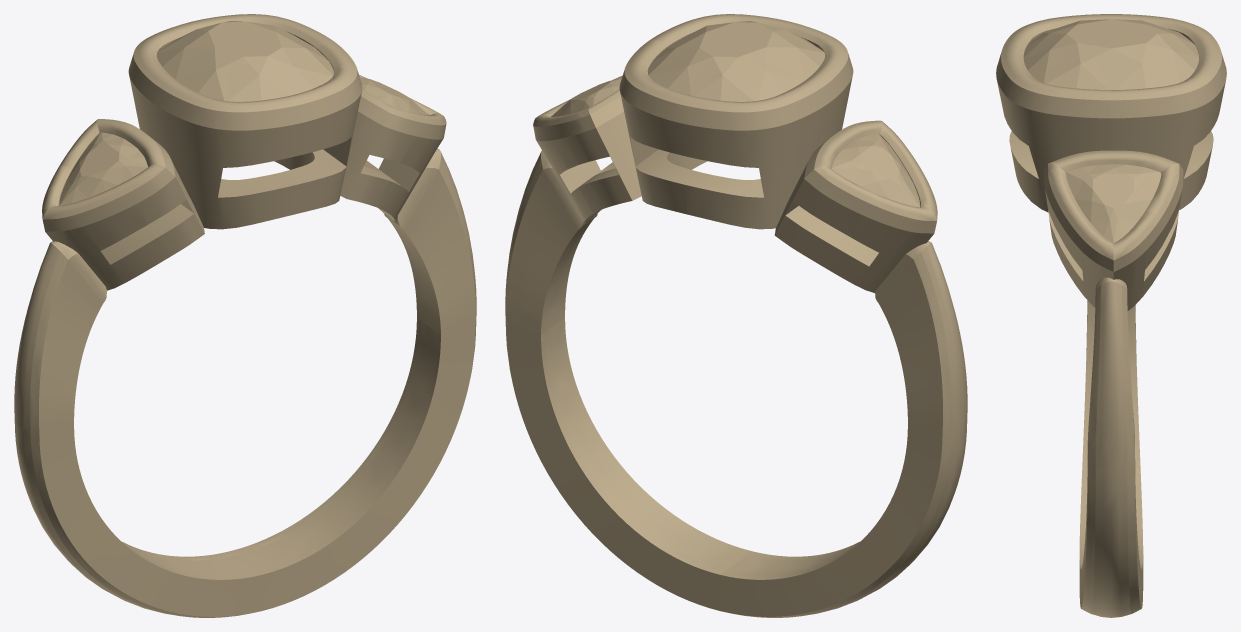
File: ring.glb
3 renders of one model, left to right at view 1: azimuth 30°, elevation 25°; view 2: azimuth 150°, elevation 25°; view 3: azimuth 270°, elevation 25°, orthographic.
Visible parts, largest first — view 1: Object_3, Object_4, Object_6, Object_2, Object_5; view 2: Object_3, Object_4, Object_6, Object_2, Object_5; view 3: Object_4, Object_3, Object_6, Object_2, Object_5.
Part boxes in pixels (x1,y1,x2,y2): Object_3: (14, 148, 476, 617); Object_4: (128, 14, 362, 229); Object_6: (42, 75, 446, 290); Object_2: (157, 21, 333, 101); Object_5: (59, 77, 428, 205); Object_3: (505, 150, 967, 617); Object_4: (619, 14, 853, 229); Object_6: (533, 75, 937, 292); Object_2: (648, 21, 824, 101); Object_5: (551, 79, 920, 207); Object_4: (996, 14, 1226, 212); Object_3: (1079, 277, 1143, 617); Object_6: (1044, 150, 1183, 310); Object_2: (1023, 19, 1198, 89); Object_5: (1066, 164, 1161, 243).
Bounding box in the file's own units: 0.8355 × 1 × 0.3732.
